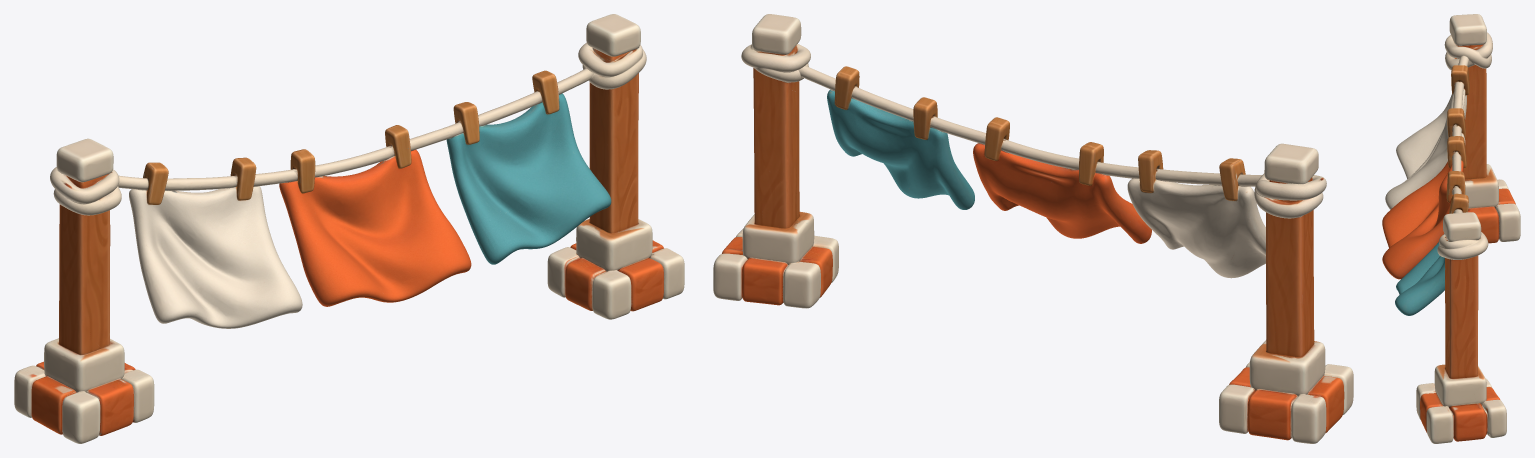
Rendered from Meshy_AI_roofline_clothesline__1024090001_image-to-3d-texture.glb.
3 renders of one model, left to right at view 1: azimuth 30°, elevation 25°; view 2: azimuth 150°, elevation 25°; view 3: azimuth 270°, elevation 25°, orthographic. The views are drawn at different scales.
Size of the model in its own units: 1.9 by 0.7858 by 0.4726.
Materials: 1 (1 with a texture image).
